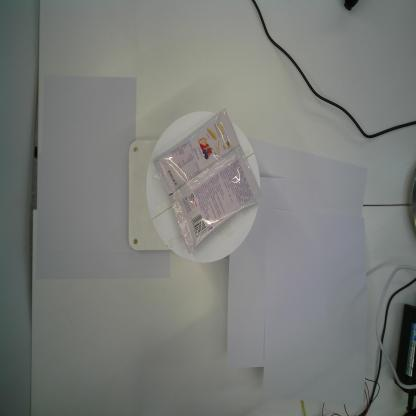Instant Drink: (152, 108, 264, 254)
